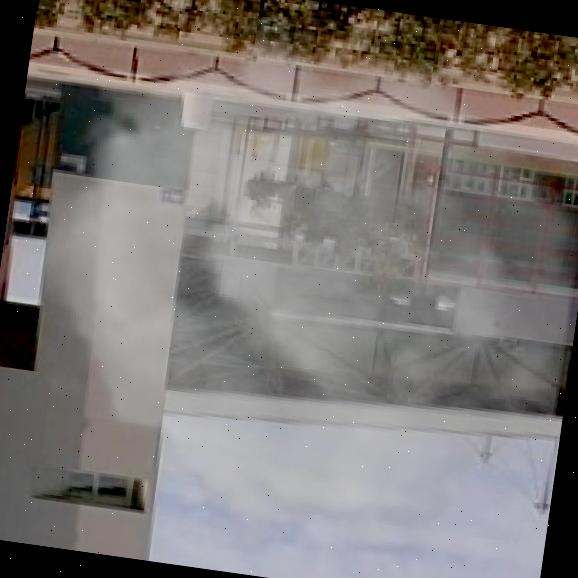smoke: (7, 0, 578, 578)
